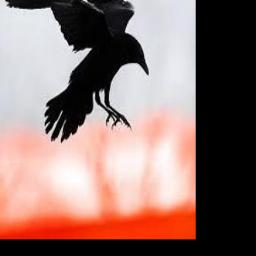Crow: (5, 0, 149, 142)
